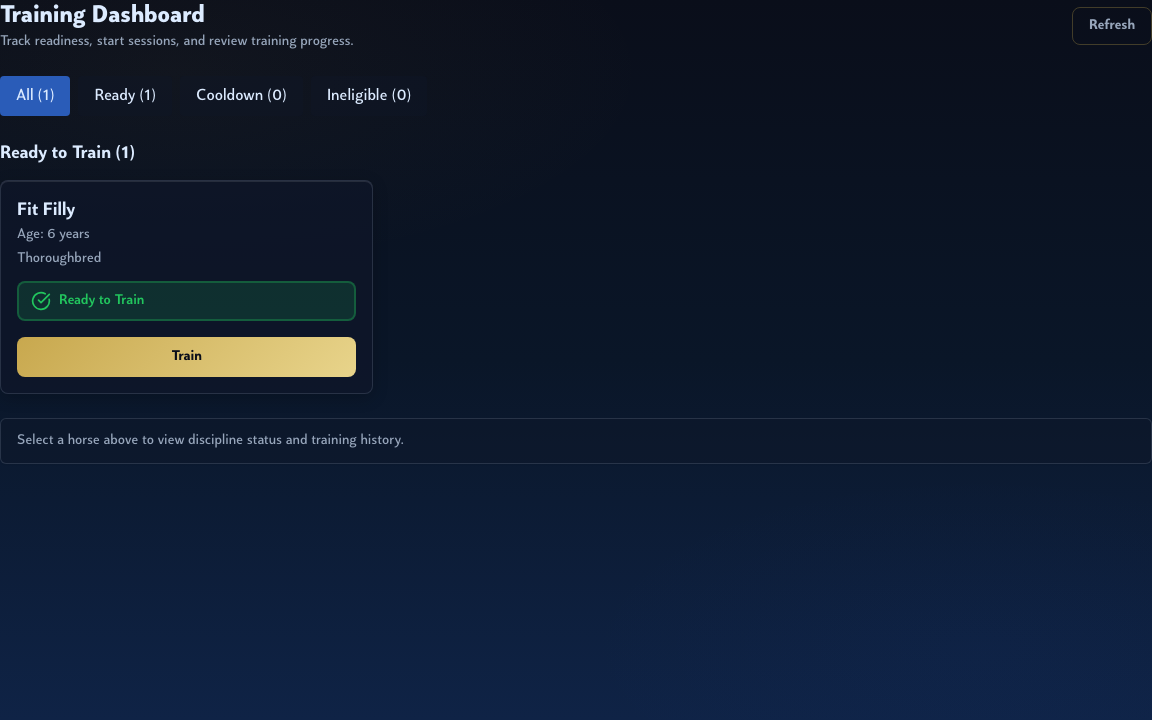
Test case: Training Center after a session (q173) › closes the popup and moves the horse out of Ready to Train
Check: the heading "Fit Filly" is shown, box [17,201,75,220]
Click the button with test id "train-button-1" at (187, 357), box [17,337,356,377]
(page scrolled)
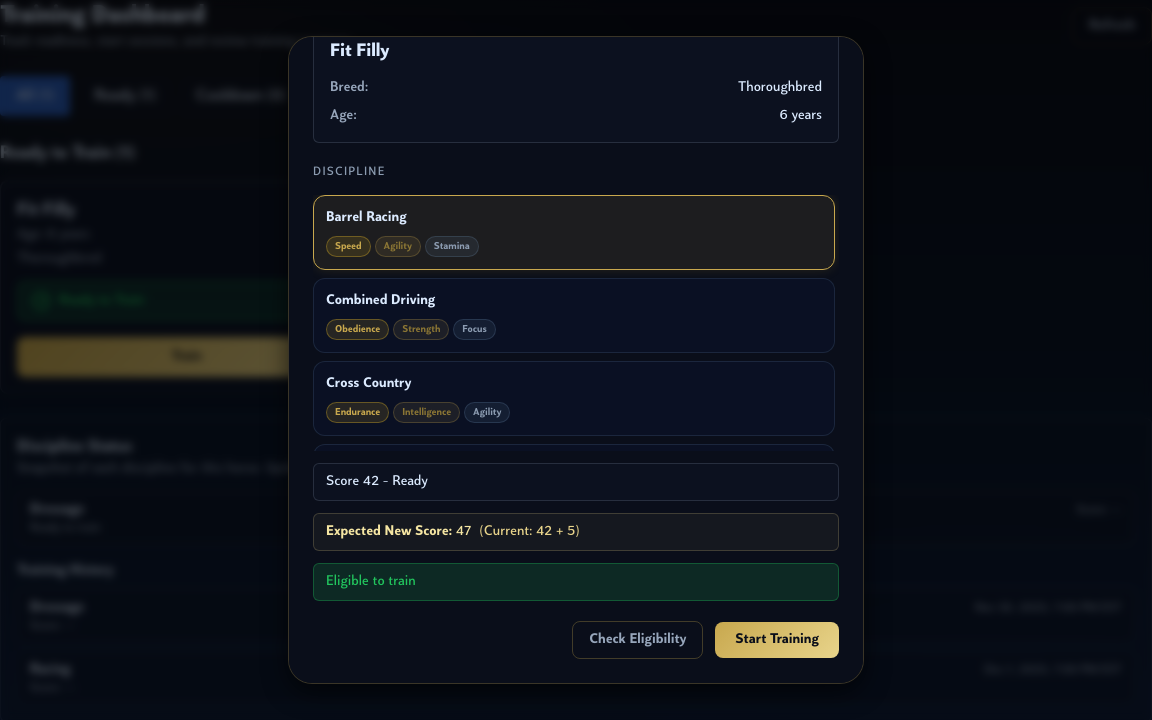
Click the button "Start Training" at (777, 640), box [715,622,839,658]
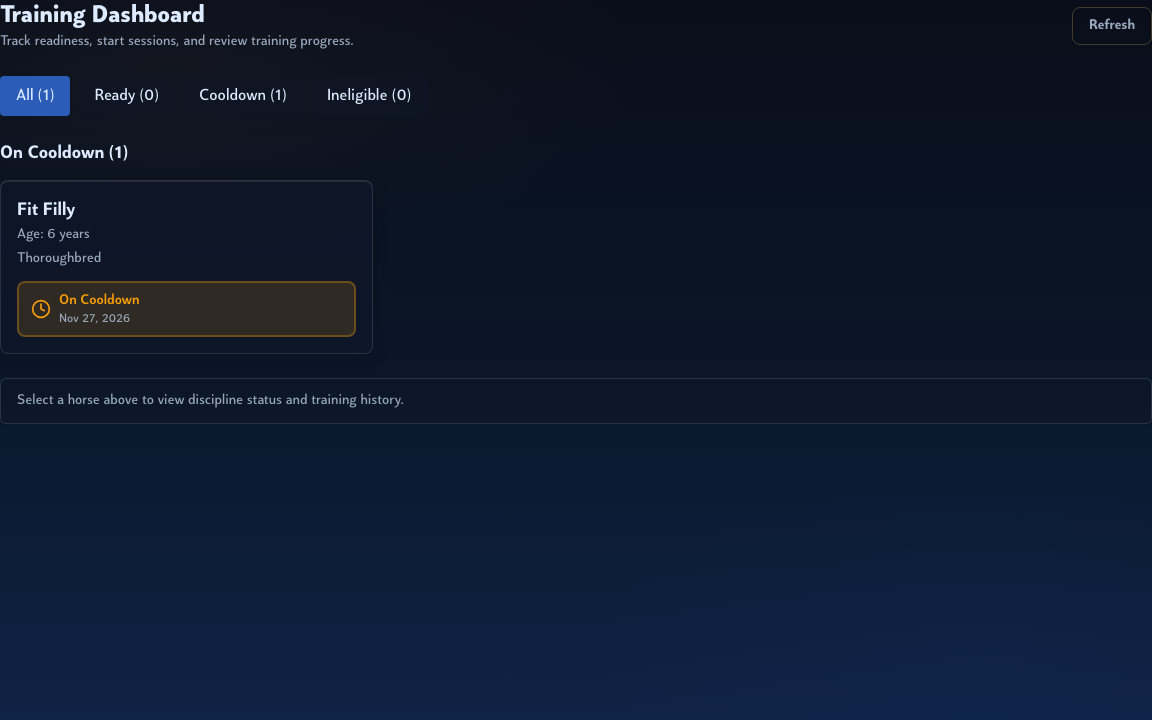
Check: the heading "Fit Filly" is shown, box [17,201,75,220]
Check: the dialog is gone
Check: the element with test id "section-ready" is gone
